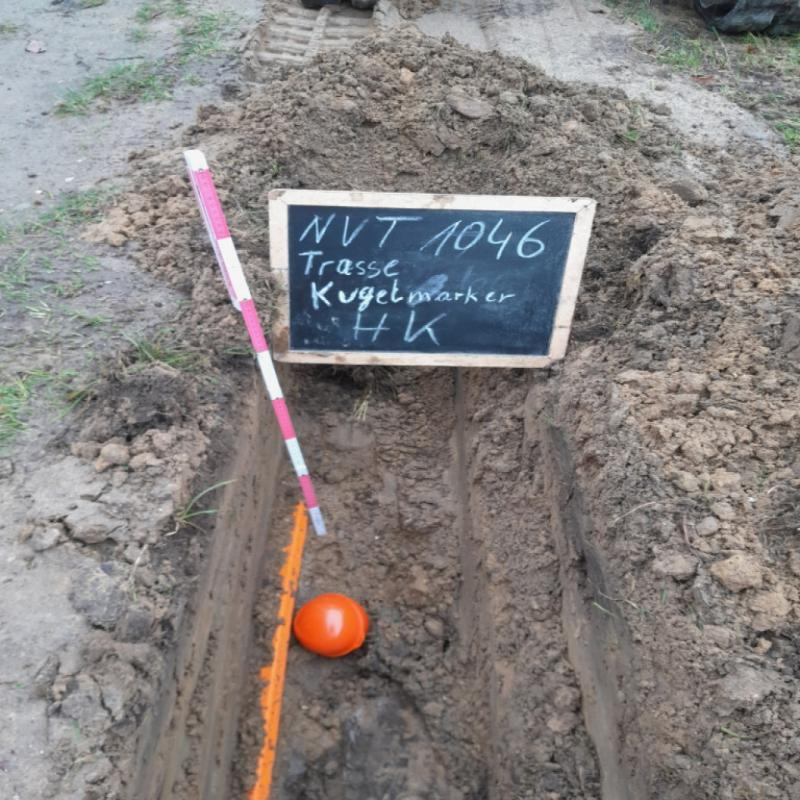Kugelmarker: (294, 594, 368, 657)
Orang-Speednetrohrchen: (243, 505, 306, 800)
